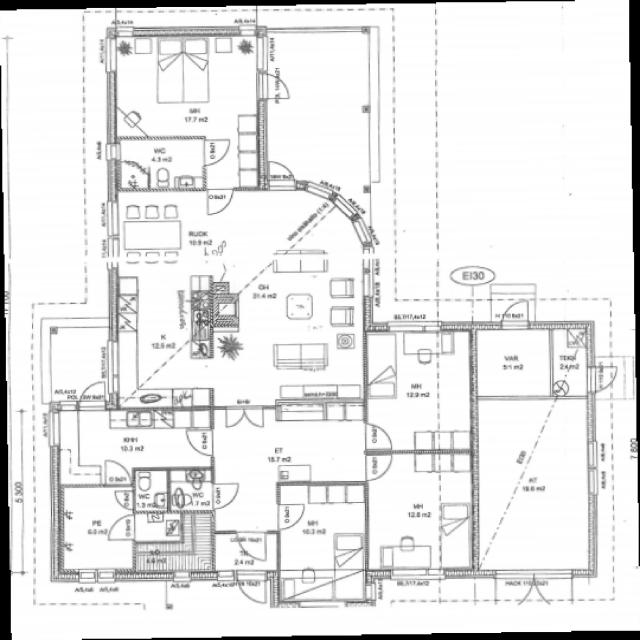door: (220, 405, 270, 431), (234, 530, 270, 566), (256, 70, 294, 104), (236, 570, 268, 606), (266, 158, 298, 192), (361, 420, 396, 451), (183, 426, 216, 458), (362, 452, 395, 483), (101, 458, 134, 488), (210, 481, 242, 511), (105, 513, 137, 543), (205, 186, 235, 218), (275, 502, 309, 530), (501, 298, 531, 329), (587, 365, 619, 394), (78, 378, 108, 408), (202, 137, 231, 167), (111, 488, 137, 512), (238, 20, 258, 38)
window: (359, 252, 377, 302), (386, 320, 441, 336), (301, 177, 336, 200), (106, 337, 122, 384), (104, 198, 121, 242), (390, 566, 436, 582), (74, 568, 119, 583), (584, 438, 602, 474), (254, 34, 270, 74), (47, 409, 62, 450), (584, 466, 601, 498), (364, 190, 377, 229), (114, 22, 135, 39), (107, 142, 122, 163)
zone: (207, 260, 363, 401), (113, 190, 206, 410), (264, 29, 370, 182), (108, 36, 260, 137), (364, 330, 474, 452), (366, 450, 474, 572), (212, 404, 369, 484), (60, 410, 211, 485), (277, 482, 368, 593), (57, 484, 135, 576), (472, 326, 552, 399), (115, 138, 206, 190), (134, 510, 204, 576), (551, 332, 592, 398), (168, 467, 214, 513), (132, 511, 182, 552), (133, 469, 169, 512), (118, 162, 148, 192)
